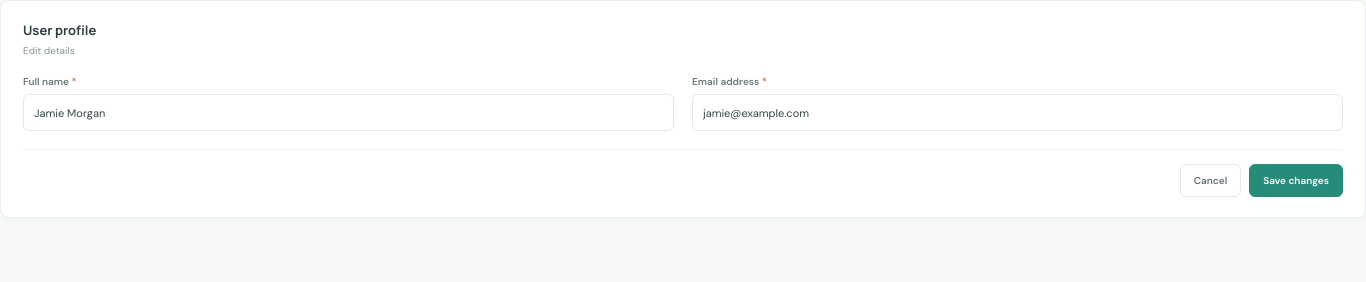
it: controlled inputs edit and save the updated profile
Step 1. Replace the text in the field labelled "Full name *" with "Alex Kim" → (348, 112), box [23,94,674,131]
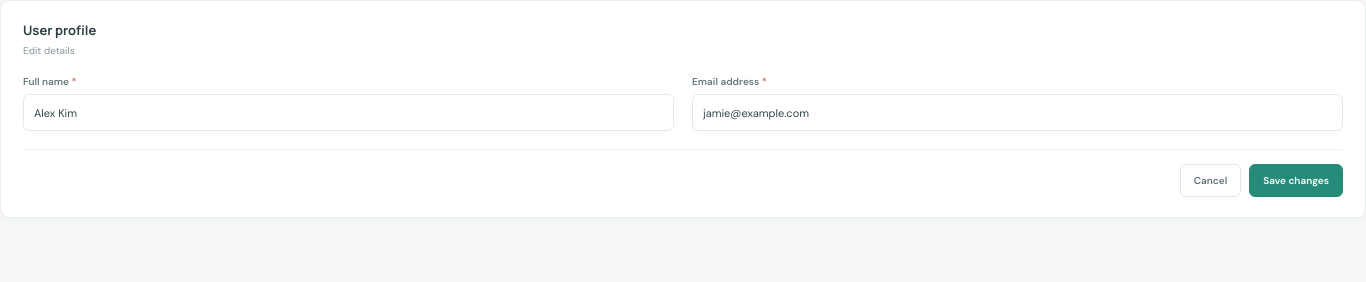
Step 2. Replace the text in the field labelled "Email address *" with "alex@example.com" → (1018, 112), box [692,94,1343,131]
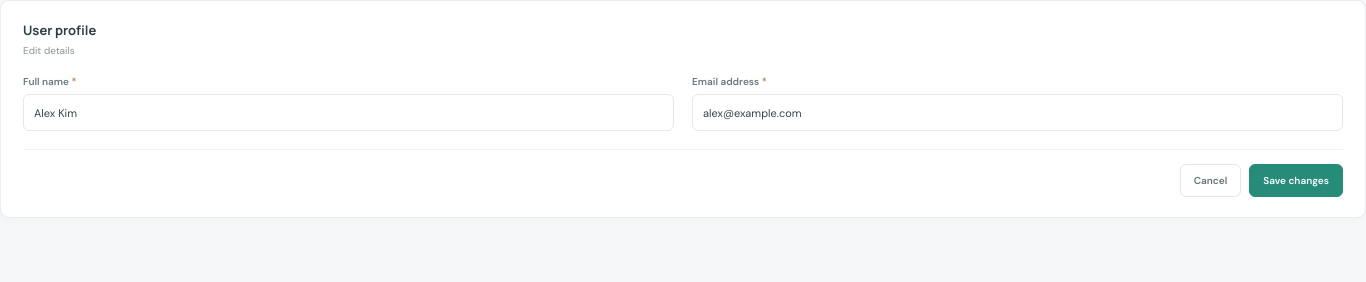
Step 3. Submit the form, box [23,75,1343,197]
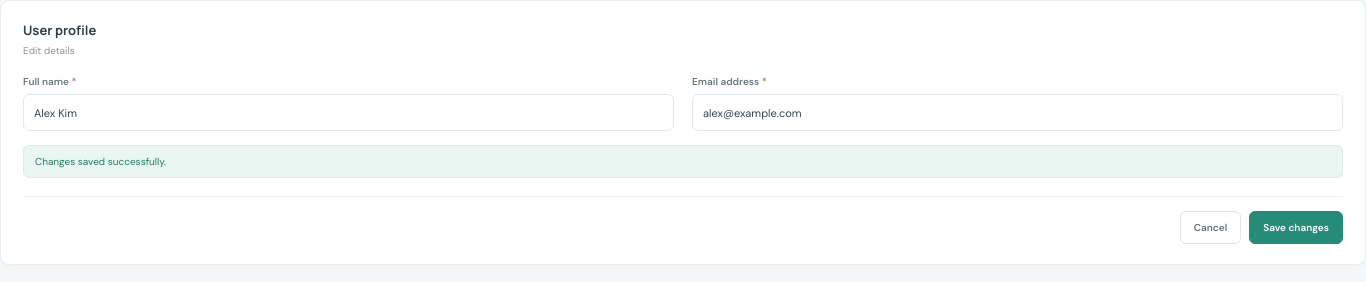
Now the message "Changes saved successfully." is shown, box [23,145,1343,178]
